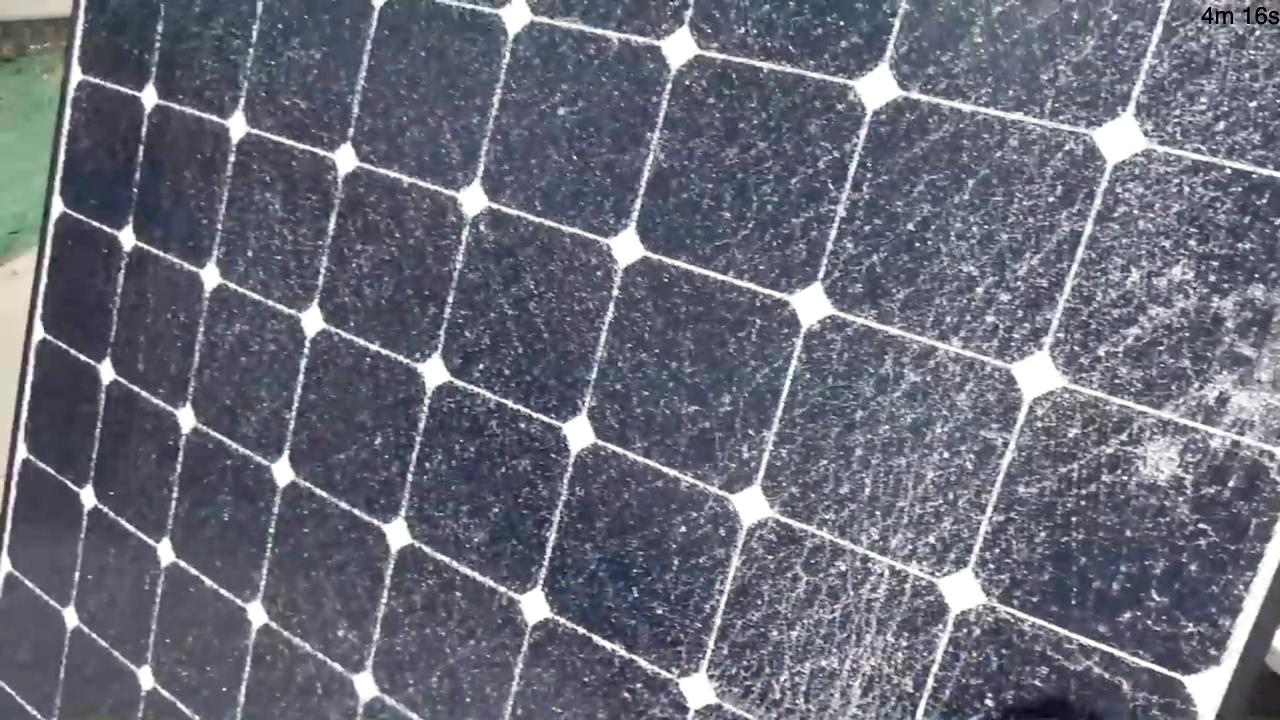Crack: (671, 14, 1280, 483), (681, 503, 952, 711)
